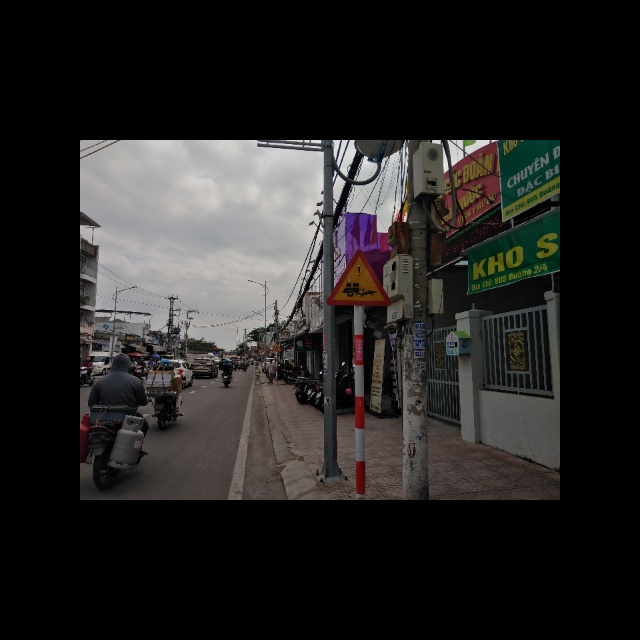Đoạn đường hay xảy ra tai nạn: (327, 247, 393, 307)
Đường đôi: (271, 343, 283, 351)
